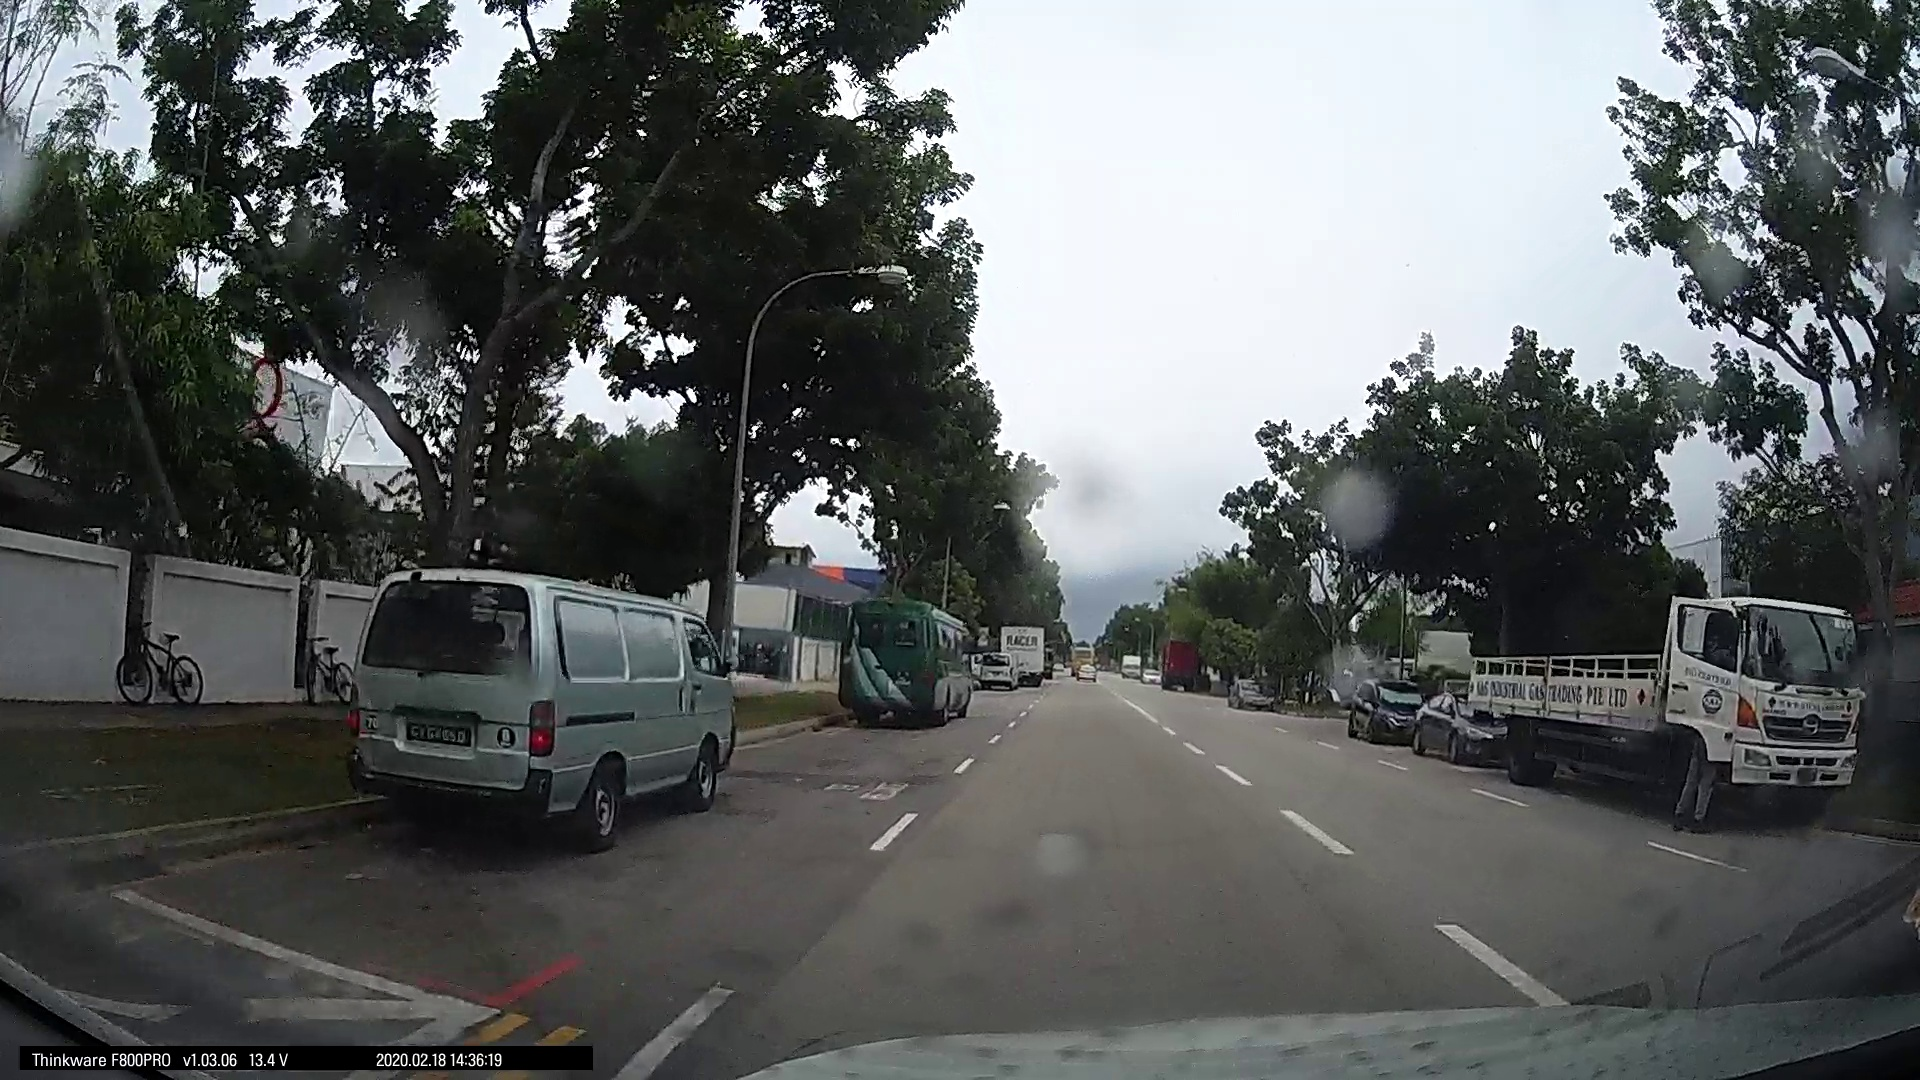Heavy Vehicle: (1489, 580, 1869, 810), (986, 620, 1048, 687)
Light Vehicle: (340, 566, 741, 847), (1342, 676, 1420, 744)
